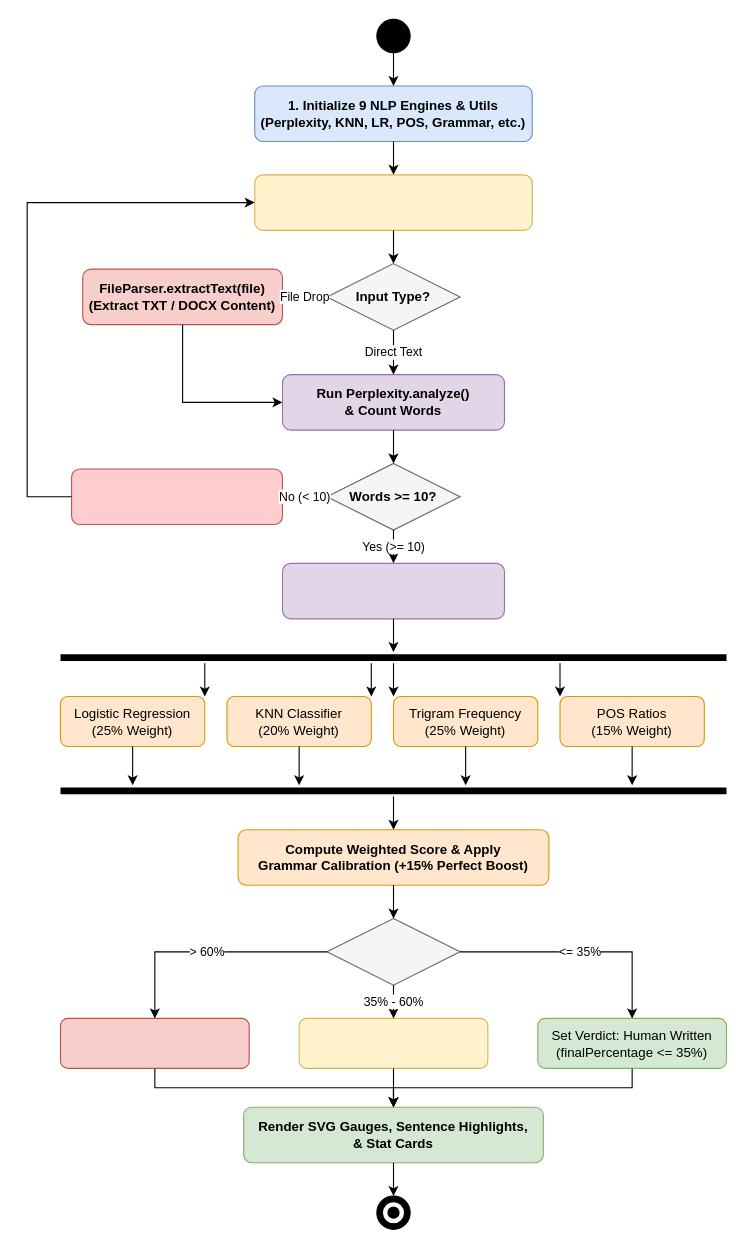
This 749x1249 diagram has some shape labels left out. Each missing label, with the centre of its shape:
2. Await User Input (Type Text / Drag & Drop / Sample Click): the point at 393,202
Display Insufficient Text Warning ("Need 10+ words"): the point at 176,496
Extract Feature Vector (KNNClassifier.extractFeatures): the point at 392,590
Score Range?: the point at 393,951
Set Verdict: AI Generated (finalPercentage > 60%): the point at 154,1042
Set Verdict: Mixed Content (35% < Score <= 60%): the point at 393,1042
